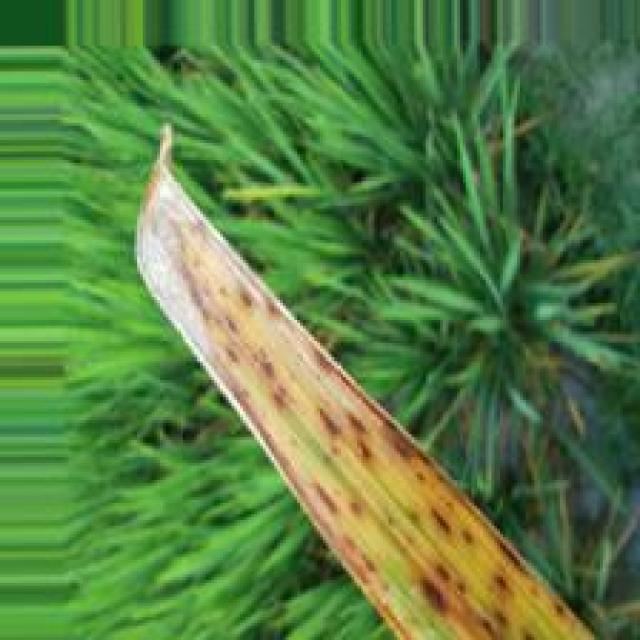Narrow_Brown_Leaf_Spot: (131, 129, 603, 640)
